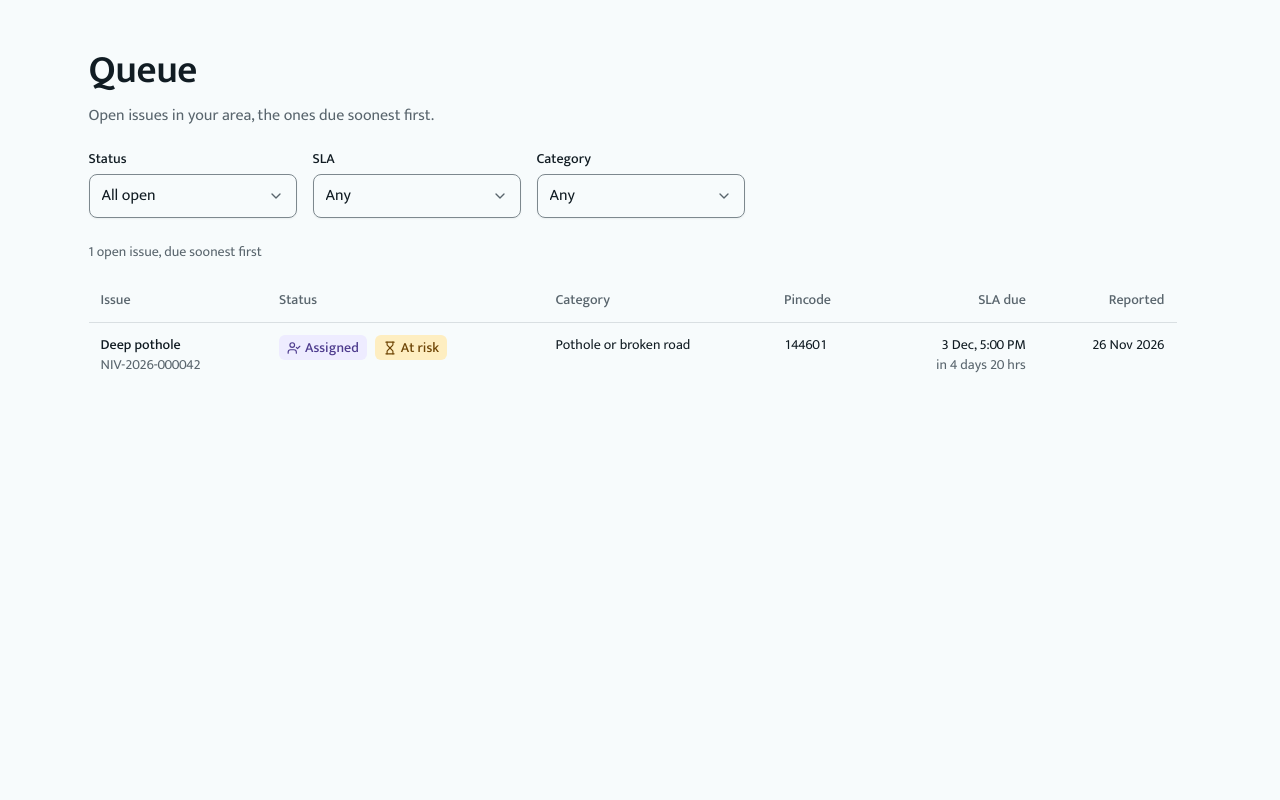
Test: Staff queue › a 409 says so, keeps the panel and refetches the queue
This screenshot has width=1280, height=800.
Click the button "Deep pothole NIV-2026-000042".
click(151, 357)  # box 100,335 -> 201,379
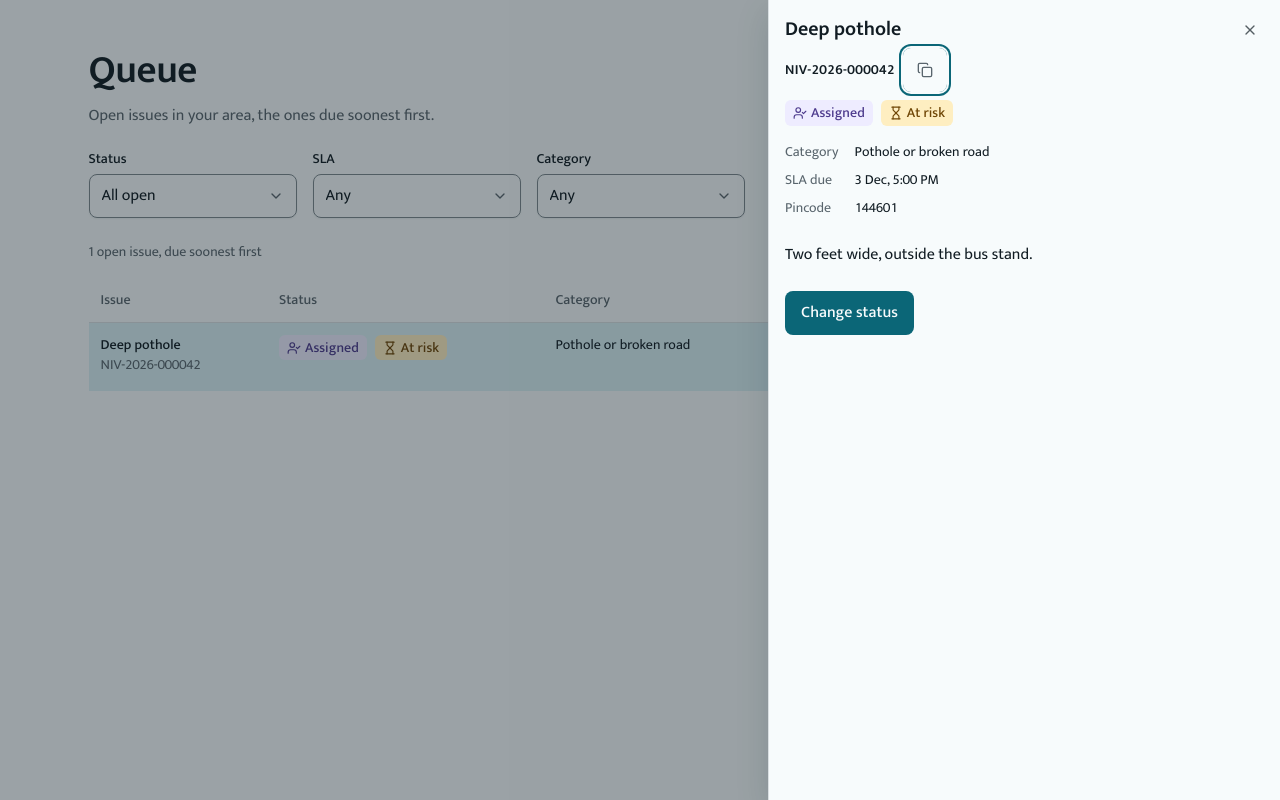
Click the button "Change status".
click(849, 313)  # box 785,291 -> 914,335
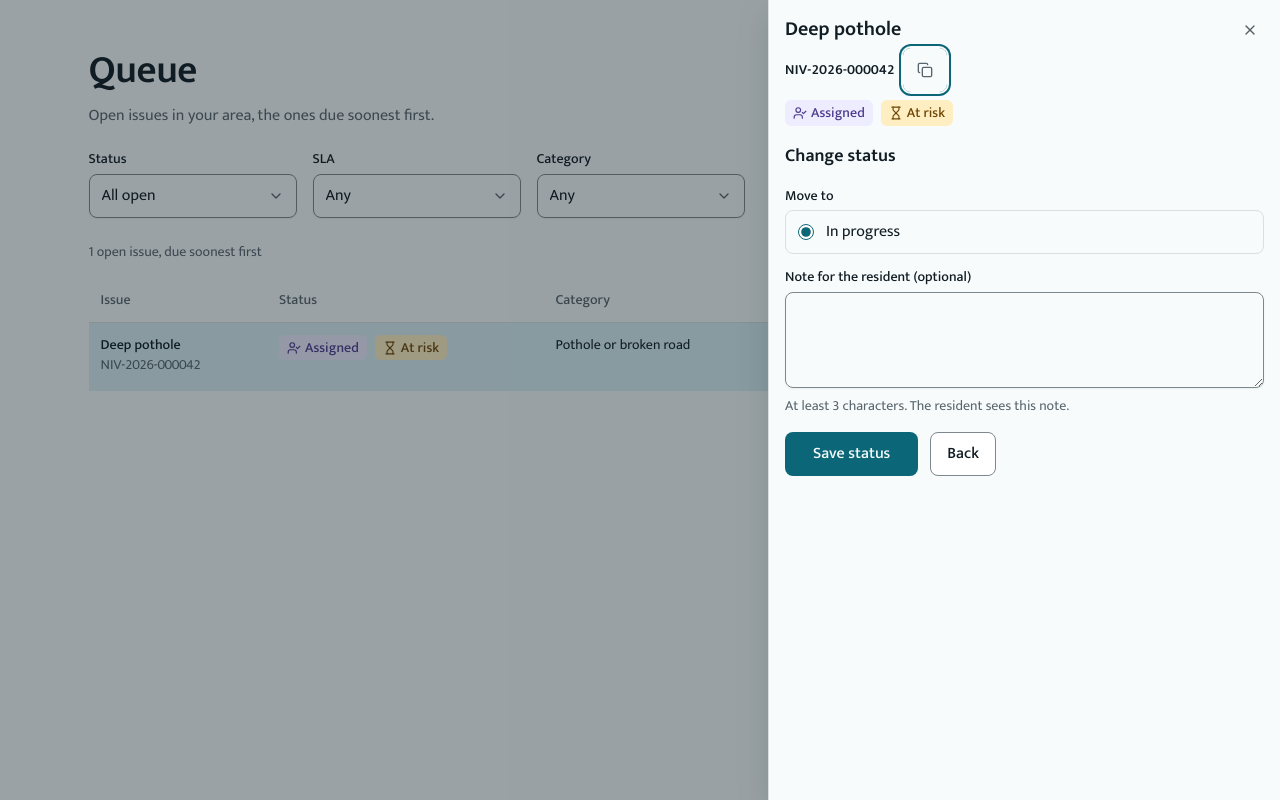
Click the button "Save status".
click(852, 454)  # box 785,432 -> 918,476
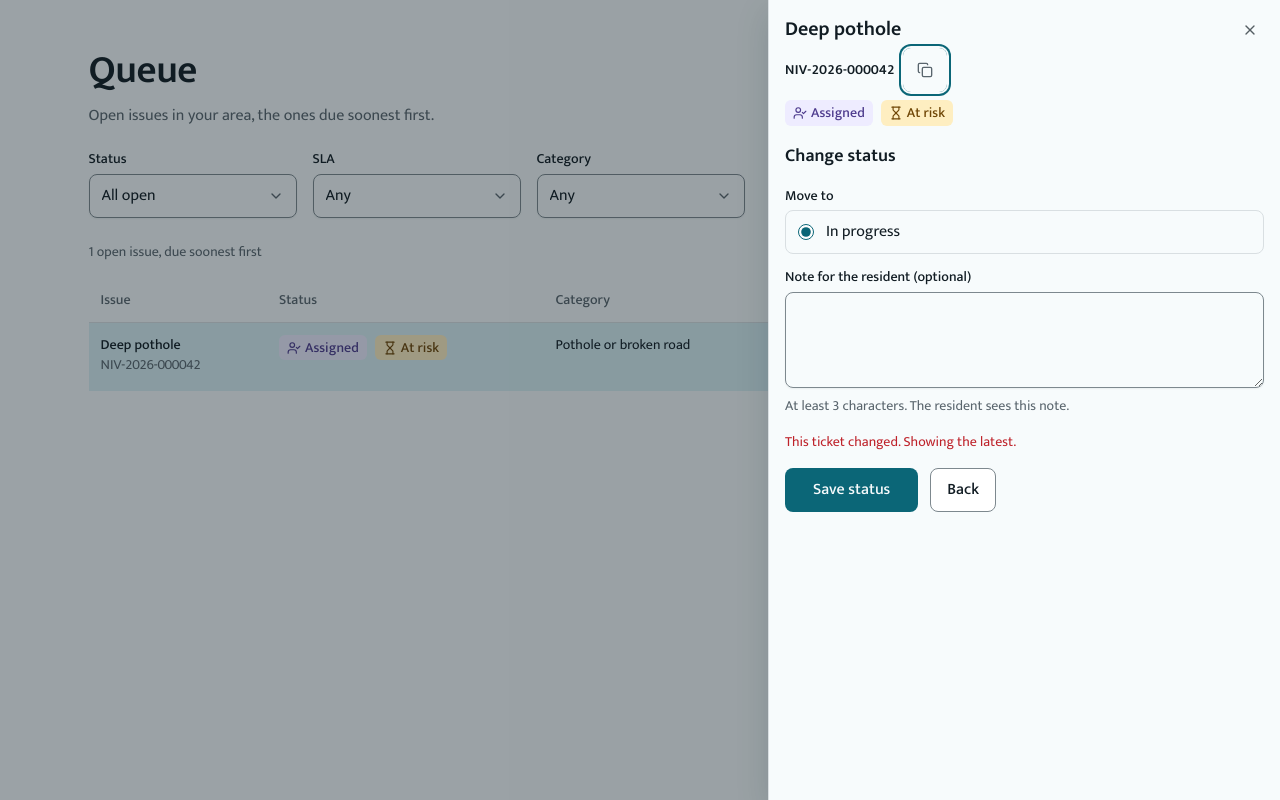
Expected: the text "This ticket changed. Showing the latest." is shown, 785,430 -> 1016,452
